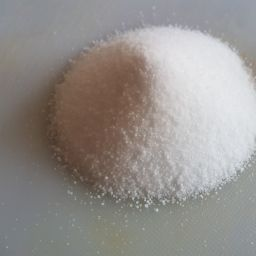Salt: (23, 24, 256, 208), (95, 56, 239, 151)
